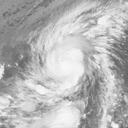cyclone: (28, 21, 100, 101)
